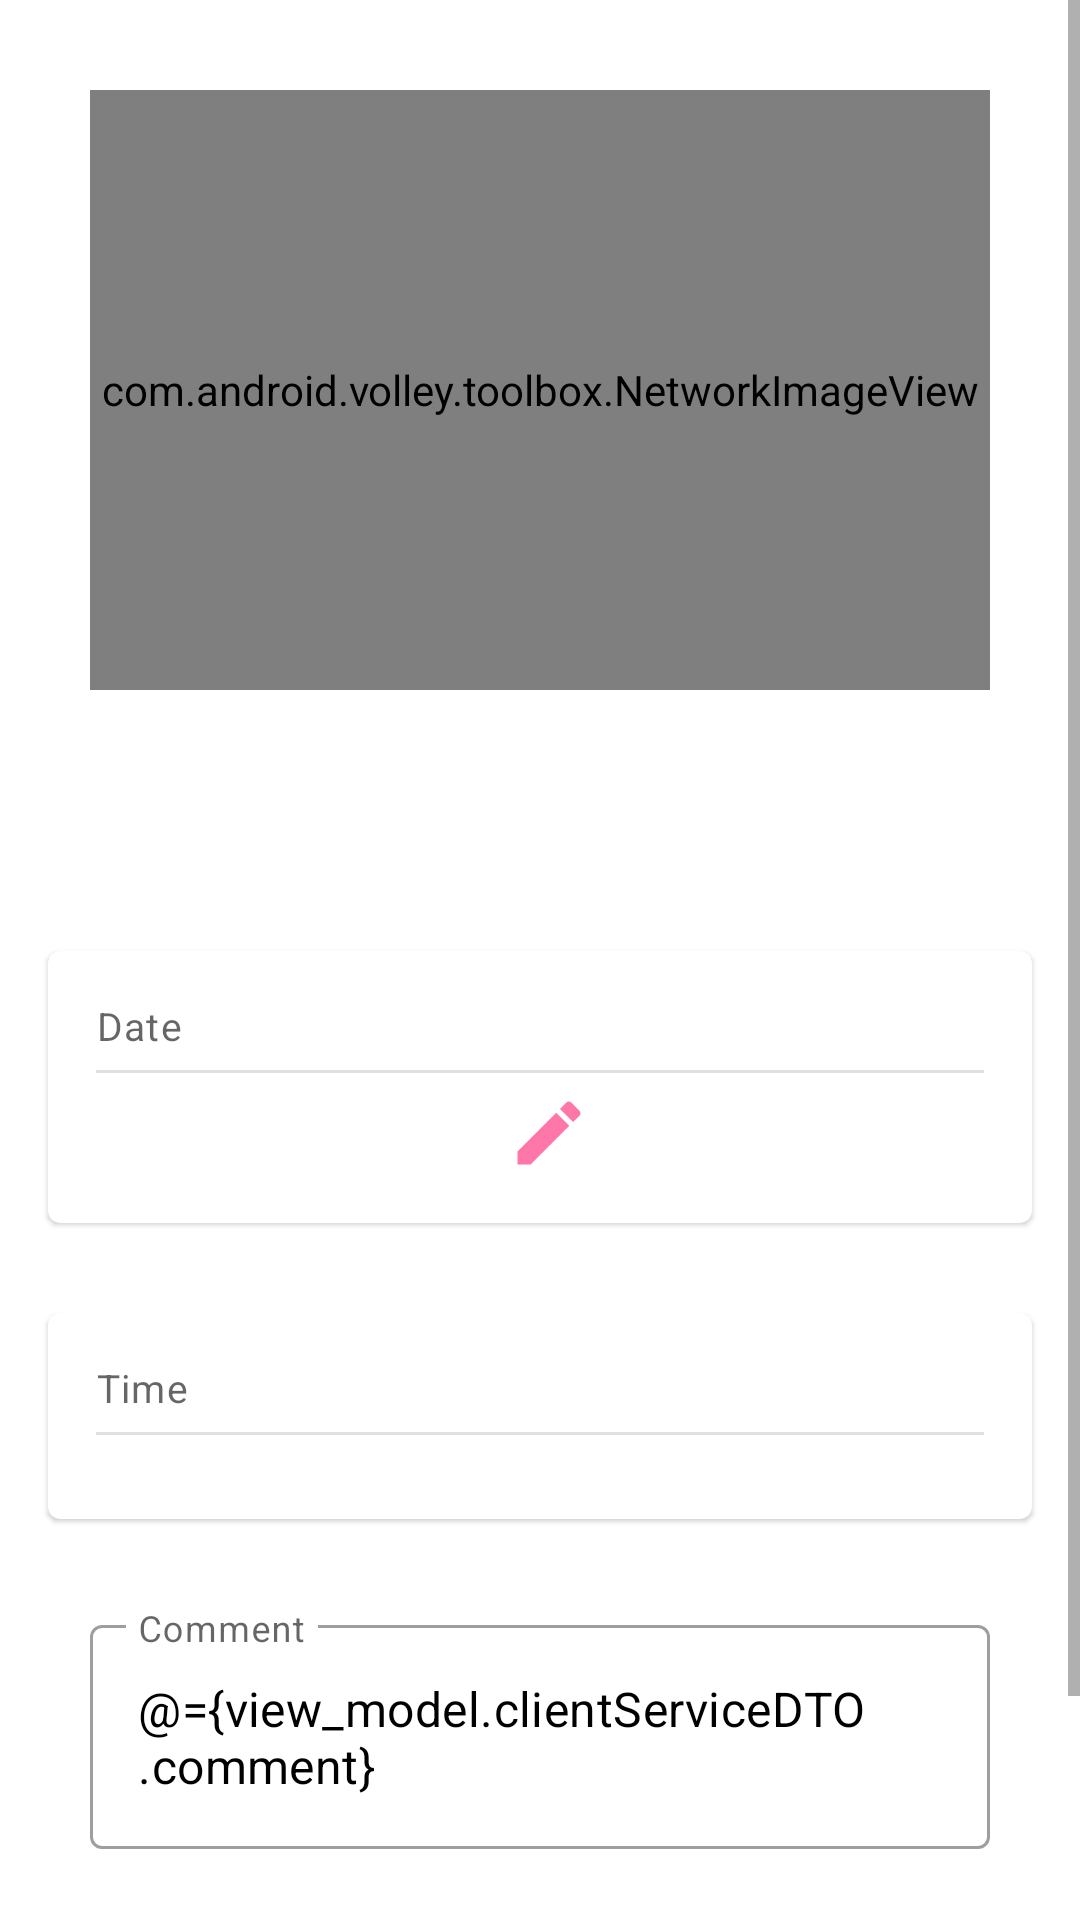

Icon click points for this 1080 × 1920 phone screenshot, format (x=x, y=y):
edit: (x=549, y=1133)
